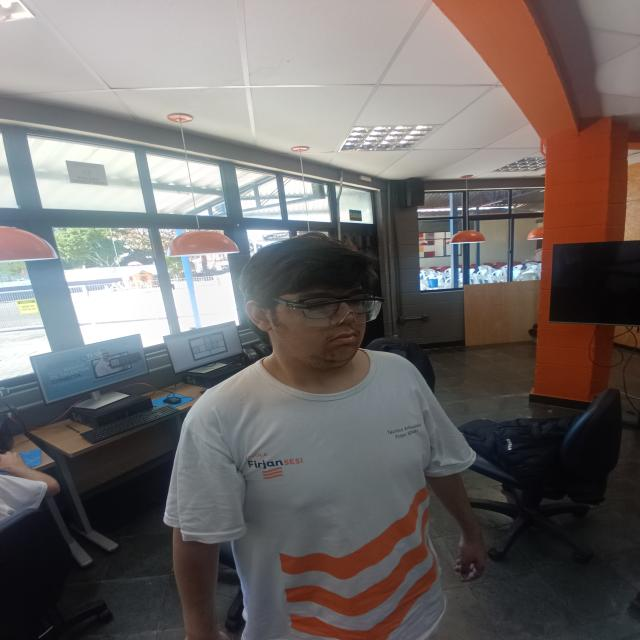oculos-epi: (274, 295, 383, 326)
